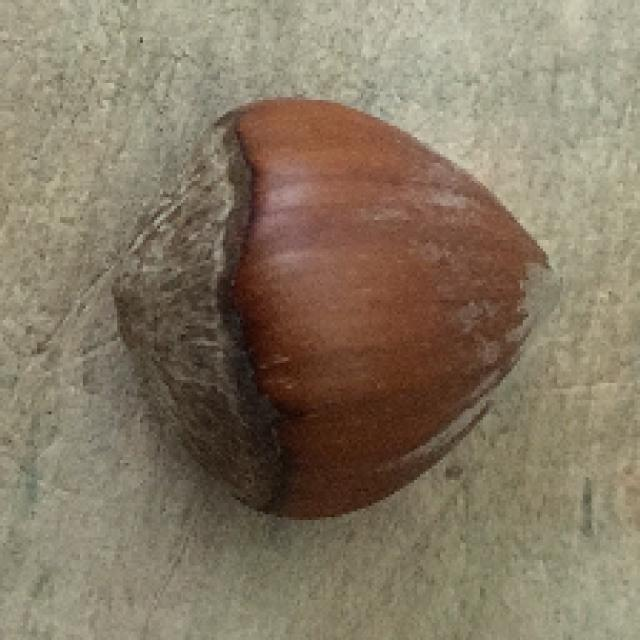qualityHazelnut: (103, 84, 572, 520)
